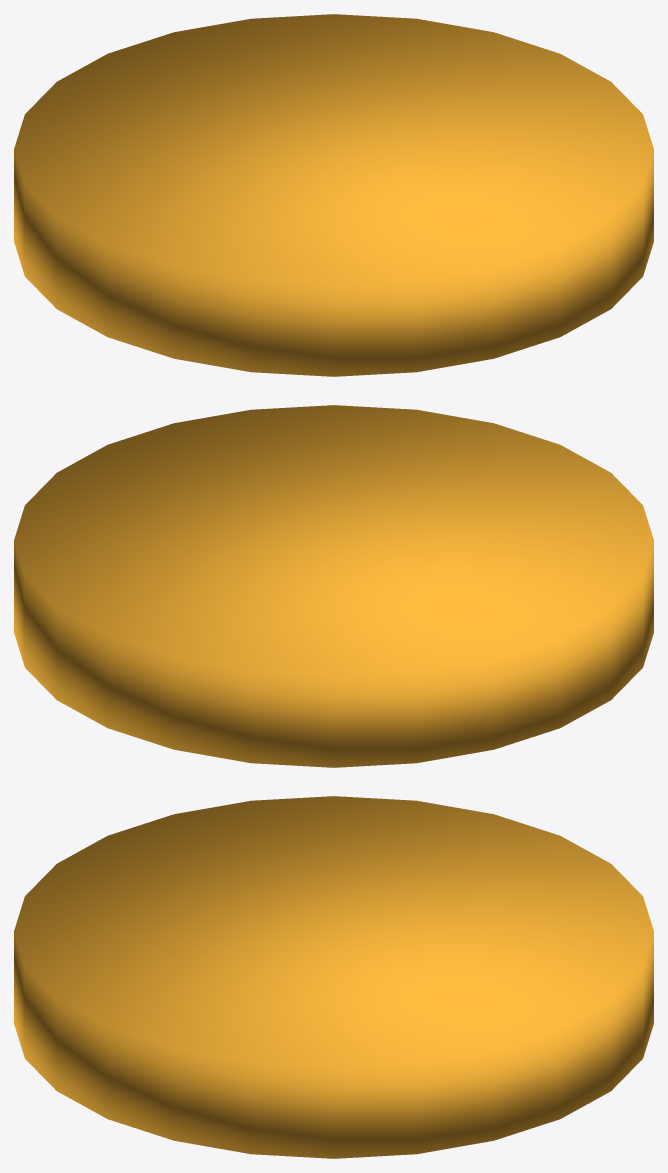
Rendered from SM_Coin.fbx.
3 renders of one model, top to bottom at view 1: azimuth 30°, elevation 25°; view 2: azimuth 150°, elevation 25°; view 3: azimuth 270°, elevation 25°, orthographic.
Visible parts, largest first — view 1: SM_Coin; view 2: SM_Coin; view 3: SM_Coin.
Boxes of the visible parts, left/top/right/bottom form: SM_Coin: left=14, top=14, right=653, bottom=376; SM_Coin: left=14, top=405, right=653, bottom=767; SM_Coin: left=14, top=796, right=653, bottom=1158.
Bounding box in the file's own units: 0.88 × 0.88 × 0.14.
